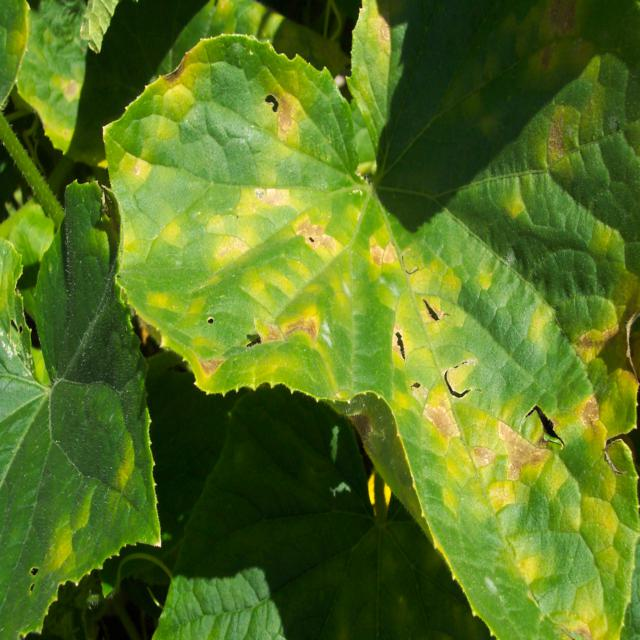Leaf_Mold: (113, 150, 640, 640), (499, 1, 602, 81), (143, 48, 214, 147), (33, 491, 97, 577), (34, 70, 86, 152), (265, 79, 307, 149), (539, 107, 577, 172)
